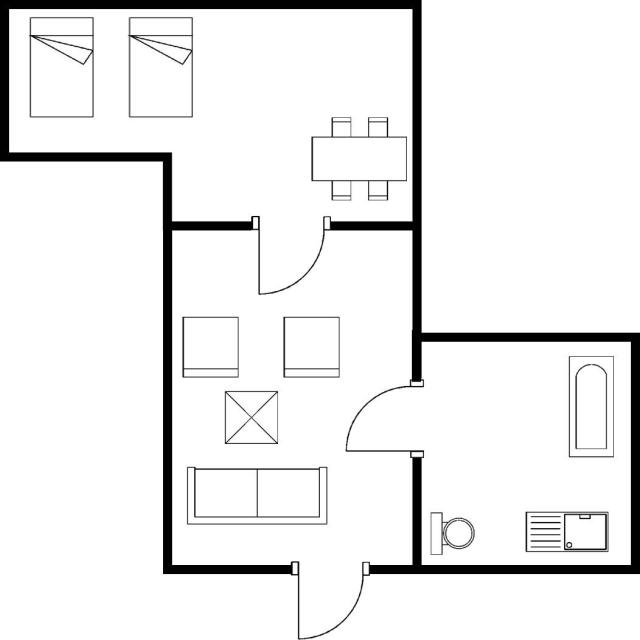bed: (124, 12, 200, 124), (24, 13, 96, 121)
coffee_table: (221, 387, 284, 449)
dining_table: (305, 112, 410, 207)
large_sink: (427, 508, 476, 558)
large_sofa: (182, 462, 330, 528)
sink: (520, 506, 612, 556)
small_sofa: (278, 314, 348, 383), (177, 312, 243, 382)
tub: (563, 353, 618, 460)
